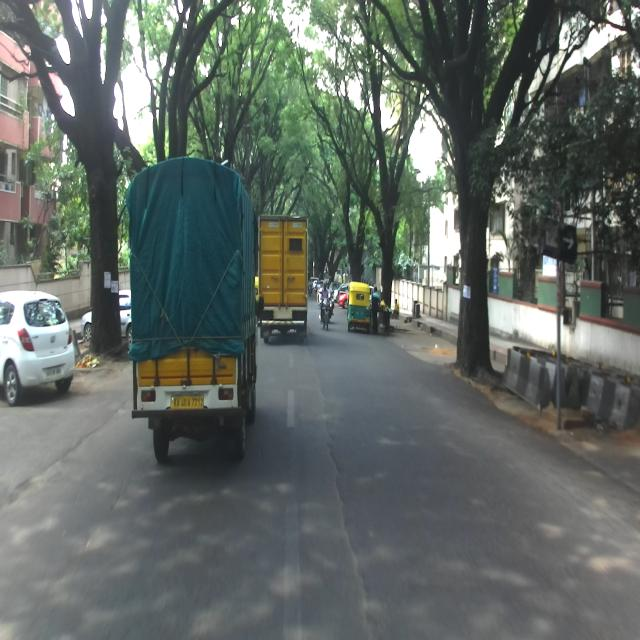car ahead at: (1, 285, 74, 414)
tree ahead at: (442, 95, 497, 377), (77, 66, 129, 362)
truck ahead at: (125, 162, 256, 450), (259, 214, 309, 336)
